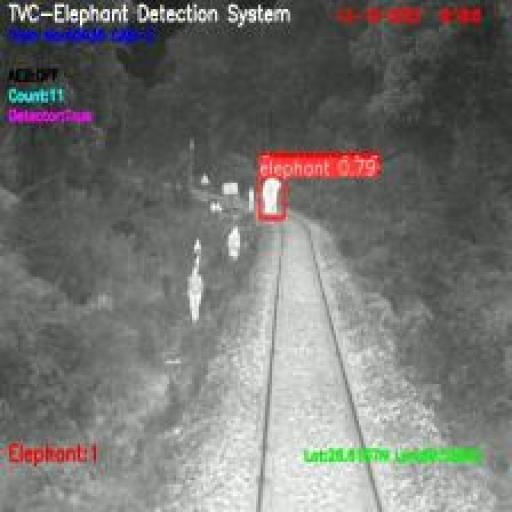Elephant: (258, 176, 282, 219)
